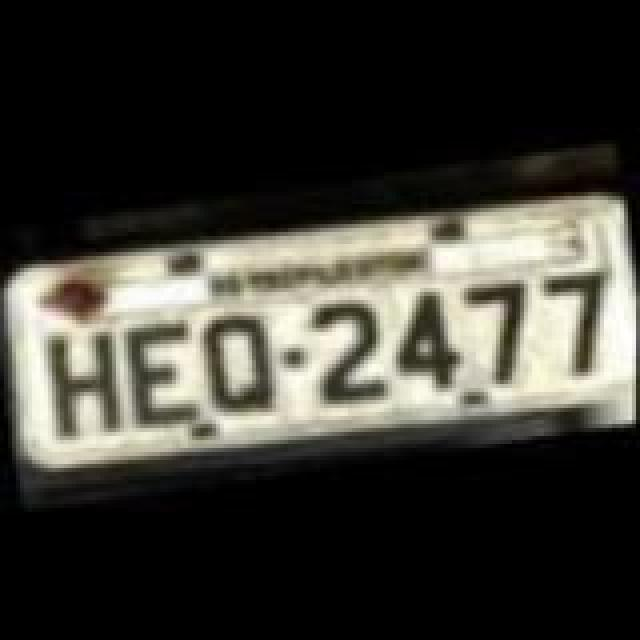2: (302, 288, 398, 408)
4: (386, 280, 474, 400)
7: (528, 254, 628, 382), (454, 268, 550, 392)
E: (114, 316, 210, 436)
H: (34, 316, 134, 448)
Q: (194, 300, 290, 420)
